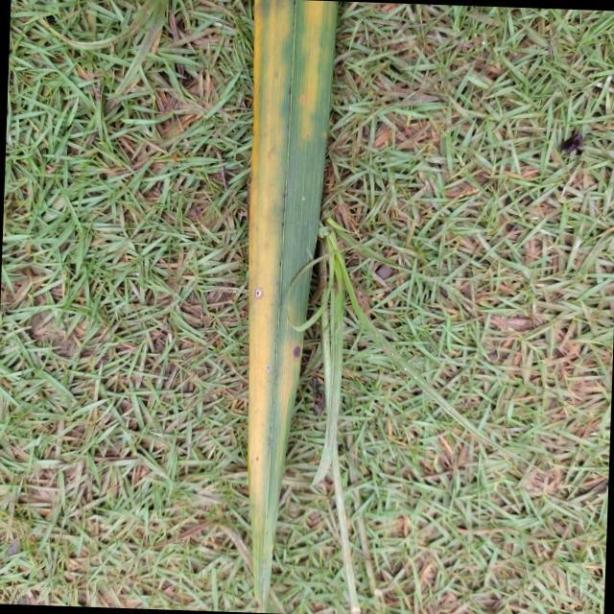Megnesium: (236, 0, 340, 614)
